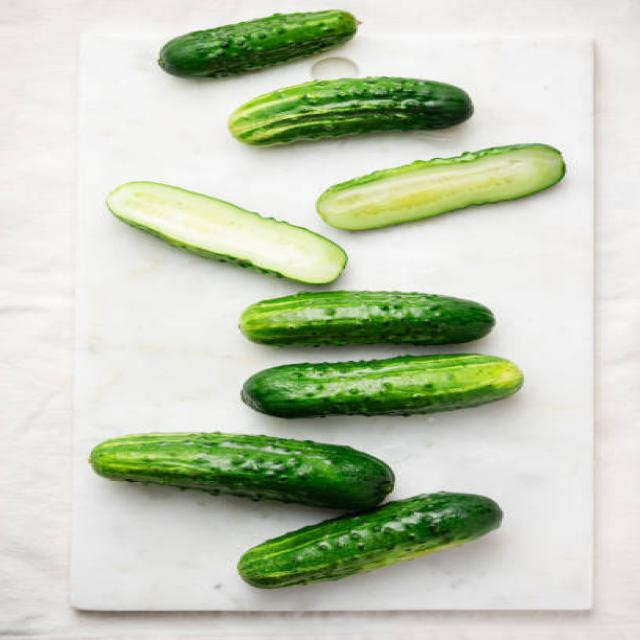cucumber: (240, 492, 506, 590), (89, 433, 398, 510), (239, 350, 526, 422), (226, 72, 473, 148), (240, 288, 495, 349), (153, 9, 359, 82)
